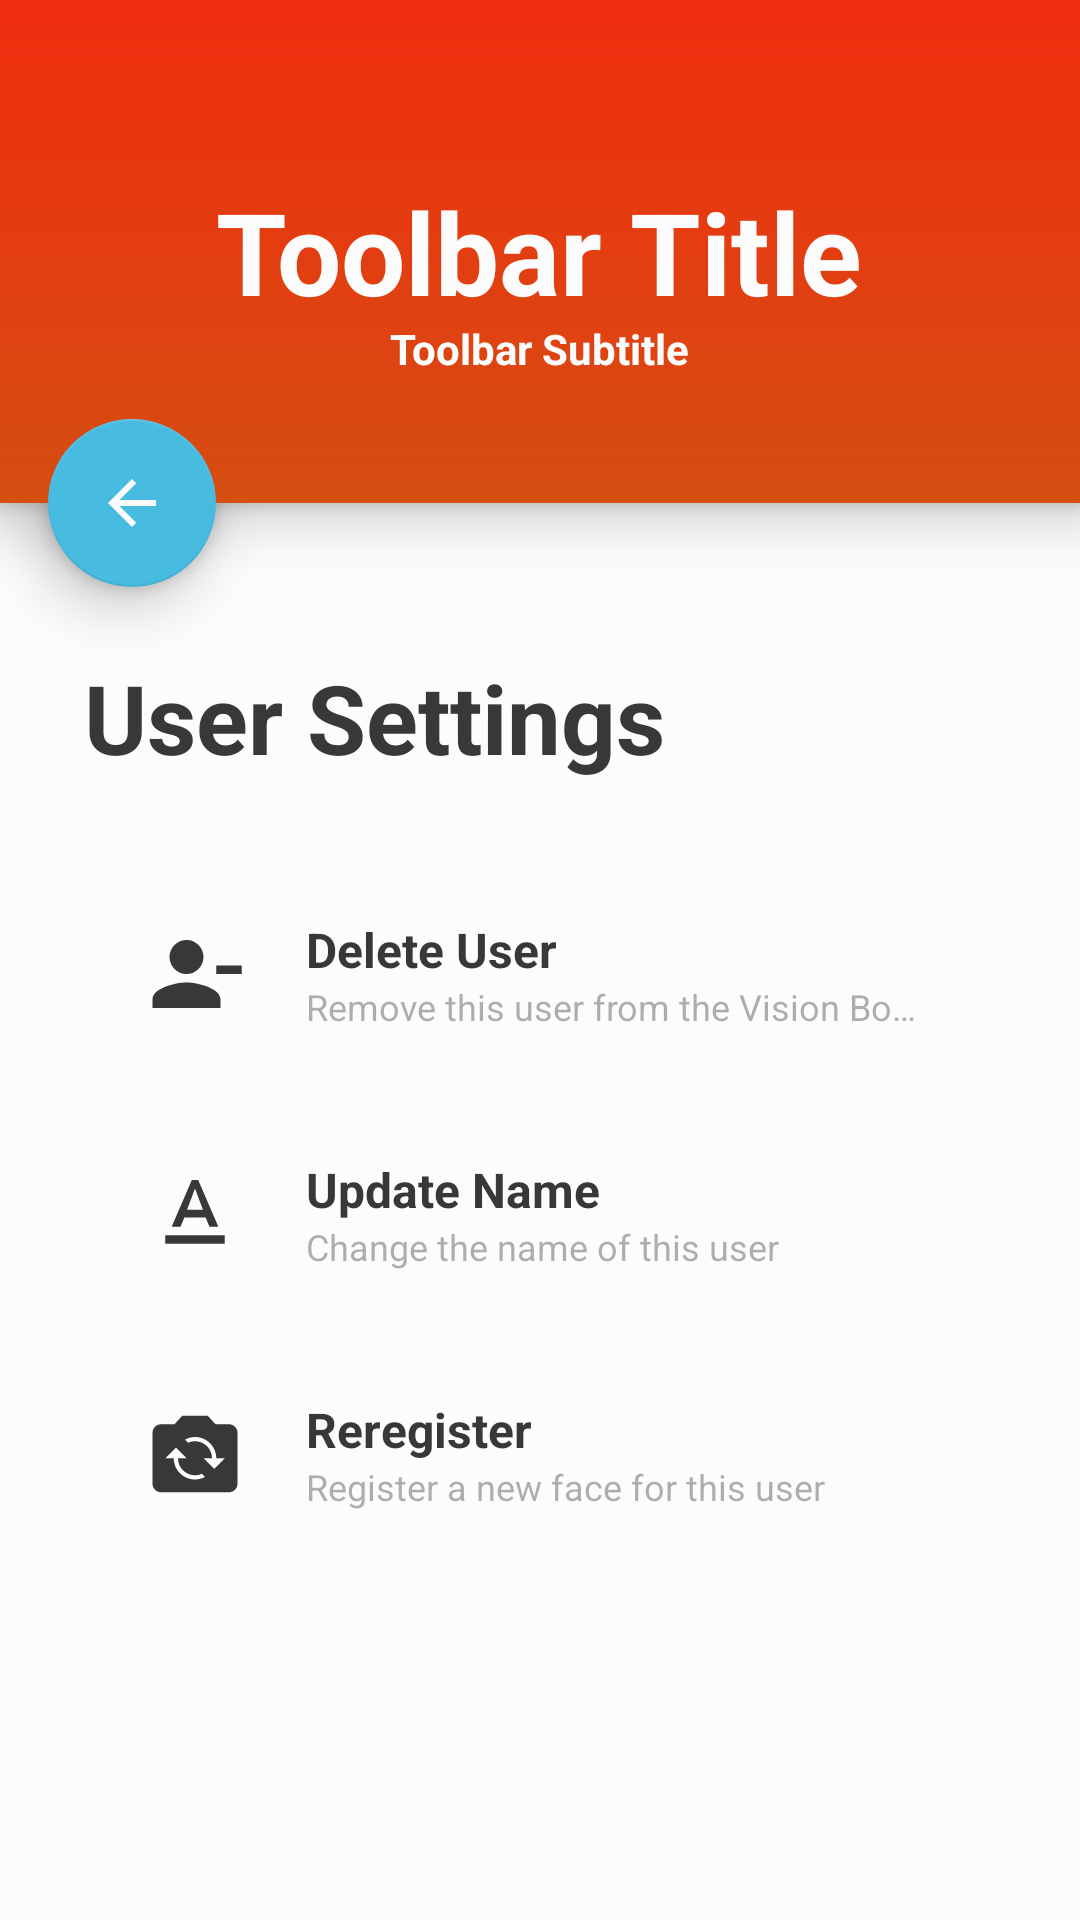

Named icons in this screenshot (1080 × 1920) and their centers, [x,y]:
arrow back: [132,503]
flip camera: [195,1454]
person remove: [197,974]
text format: [195,1212]
